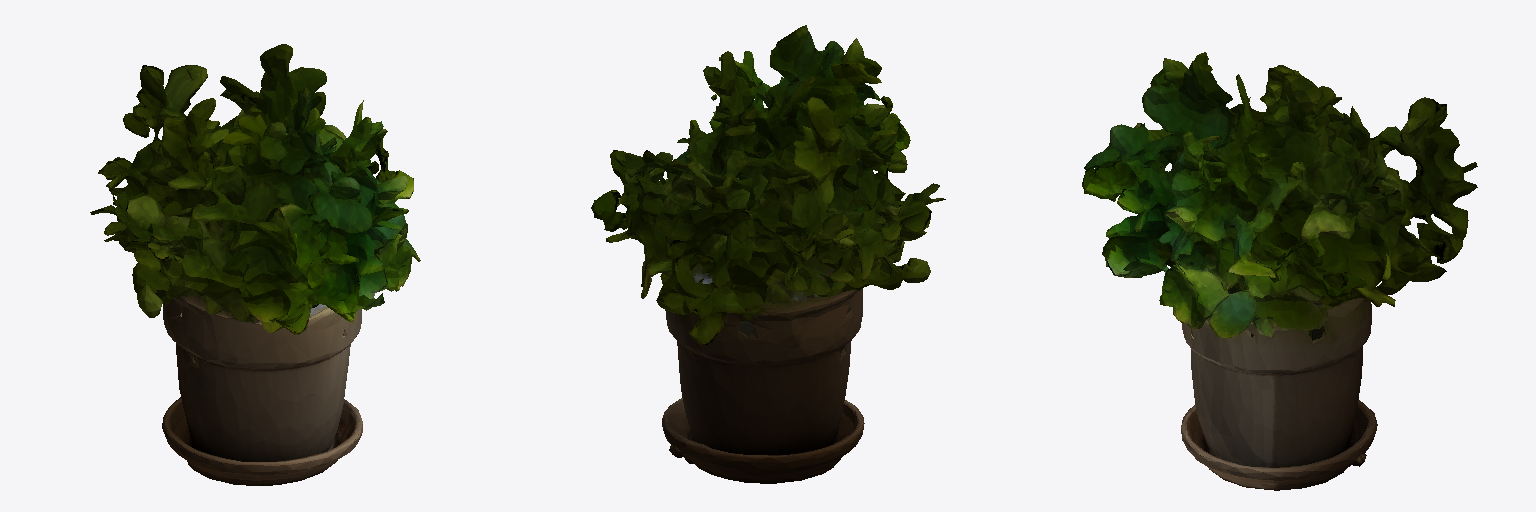
3 renders of one model, left to right at view 1: azimuth 30°, elevation 25°; view 2: azimuth 150°, elevation 25°; view 3: azimuth 270°, elevation 25°, orthographic.
Visible parts, largest first — view 1: geometry_0; view 2: geometry_0; view 3: geometry_0.
Part boxes in pixels (bbox=[...]): geometry_0: bbox=[90, 44, 420, 485]; geometry_0: bbox=[591, 25, 945, 483]; geometry_0: bbox=[1082, 52, 1477, 490].
Size of the model in its own units: 0.5262 by 0.6713 by 0.6061.
1 materials, 1 textured.